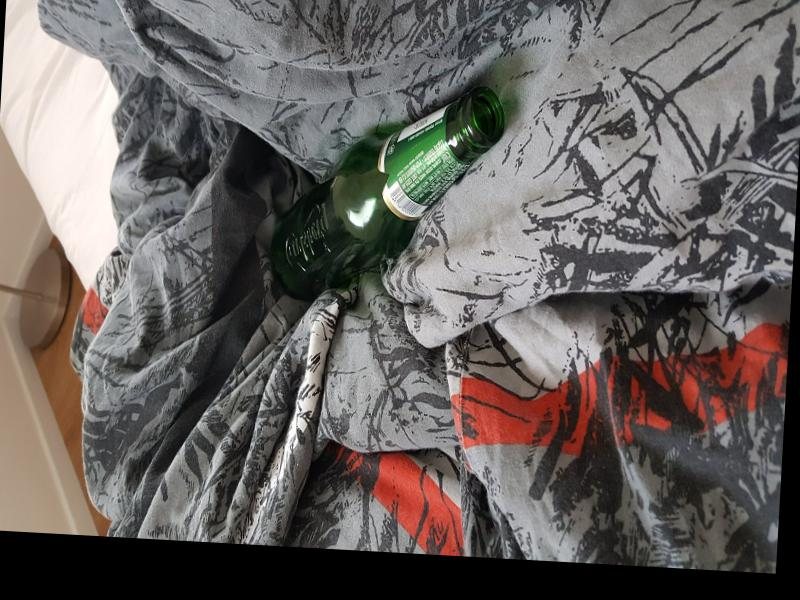Beer: (268, 79, 508, 310)
